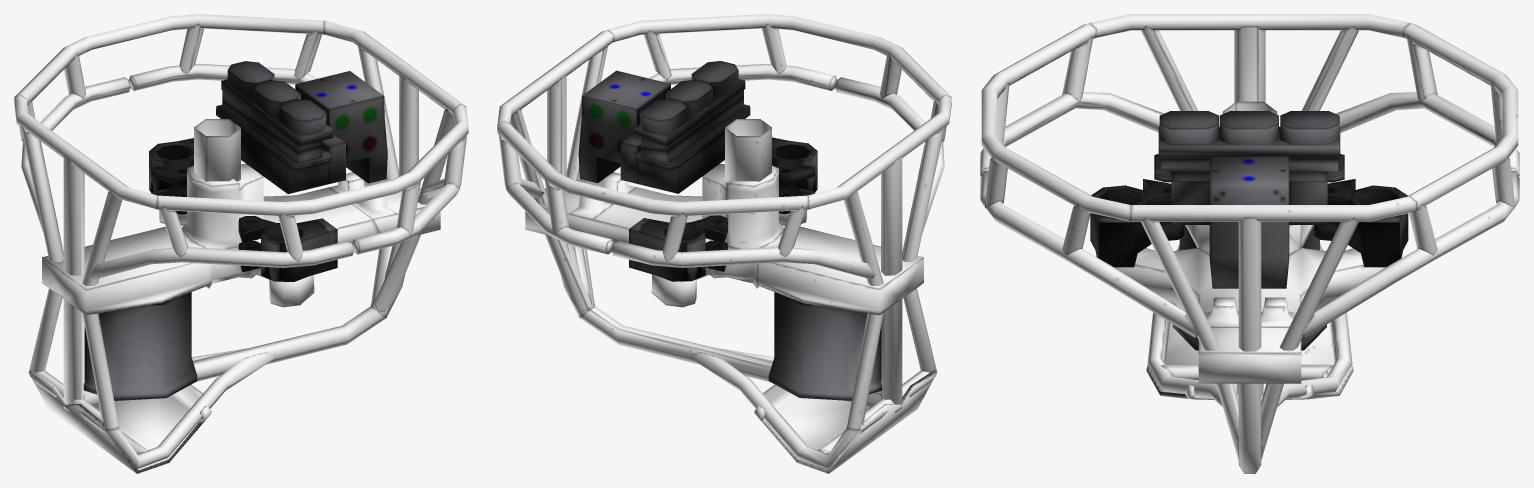
File: pelvis.dae
3 views of the same model, side by side, from view 1: azimuth 30°, elevation 25°; view 2: azimuth 150°, elevation 25°; view 3: azimuth 270°, elevation 25° (orthographic). The views are drawn at different scales.
Parts seen in each view (by area): view 1: pelvis; view 2: pelvis; view 3: pelvis.
Boxes of the visible parts, left/top/right/bottom form: pelvis: left=14, top=14, right=468, bottom=473; pelvis: left=497, top=14, right=951, bottom=473; pelvis: left=980, top=14, right=1519, bottom=473.
Size of the model in its own units: 0.3298 by 0.3728 by 0.2739.
